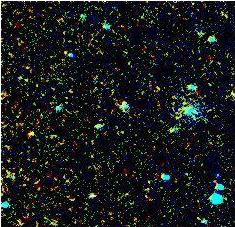star: (16, 121, 46, 151)
